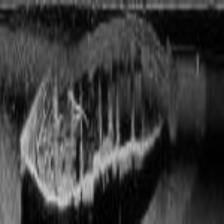ship: (21, 14, 176, 212)
